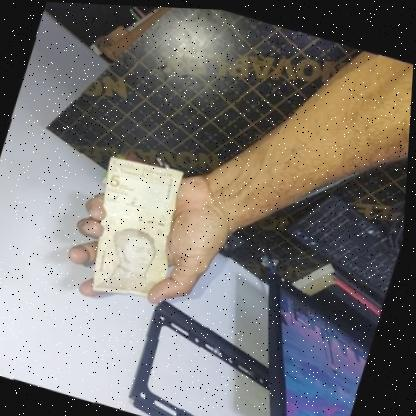five-front-vef: (73, 149, 199, 307)
